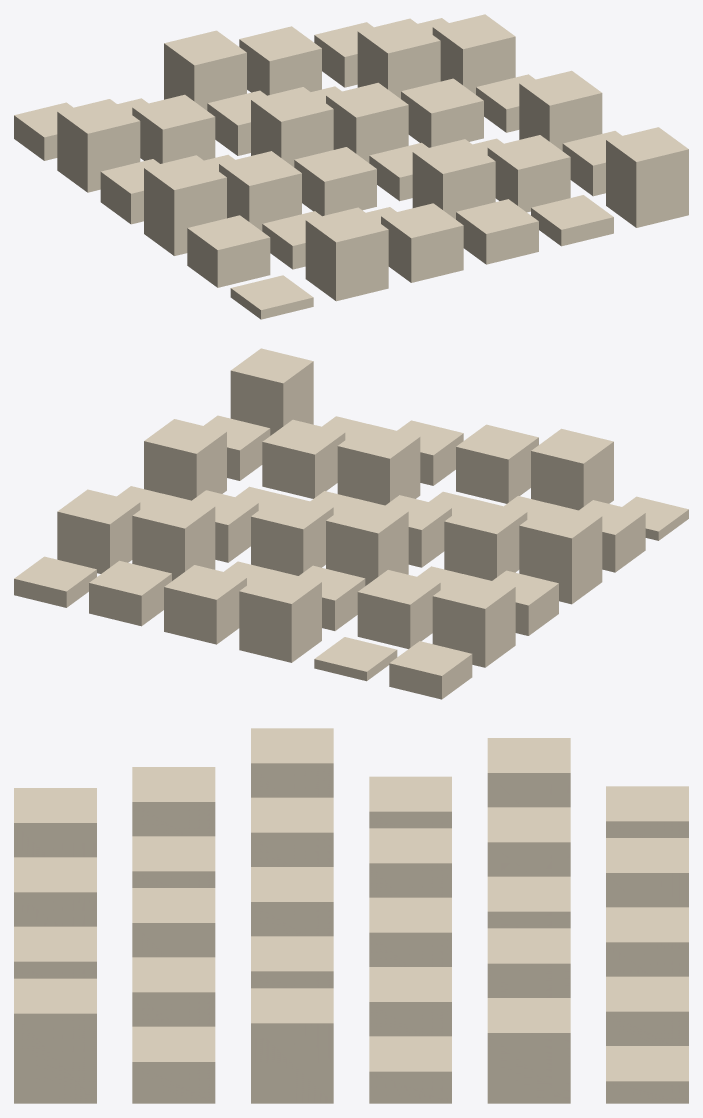
File: block-0.glb
3 views of the same model, one above another, from view 1: azimuth 30°, elevation 25°; view 2: azimuth 150°, elevation 25°; view 3: azimuth 270°, elevation 25° (orthographic). The views are drawn at different scales.
Size of the model in its own units: 950 by 140 by 950.
